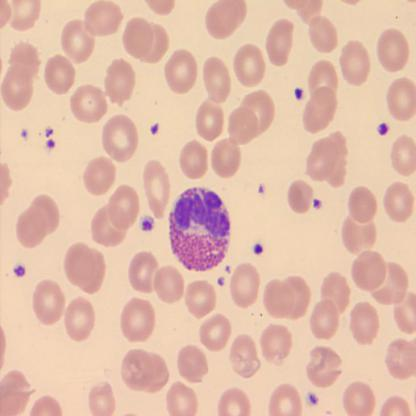Eosinophil: (166, 182, 232, 270)
